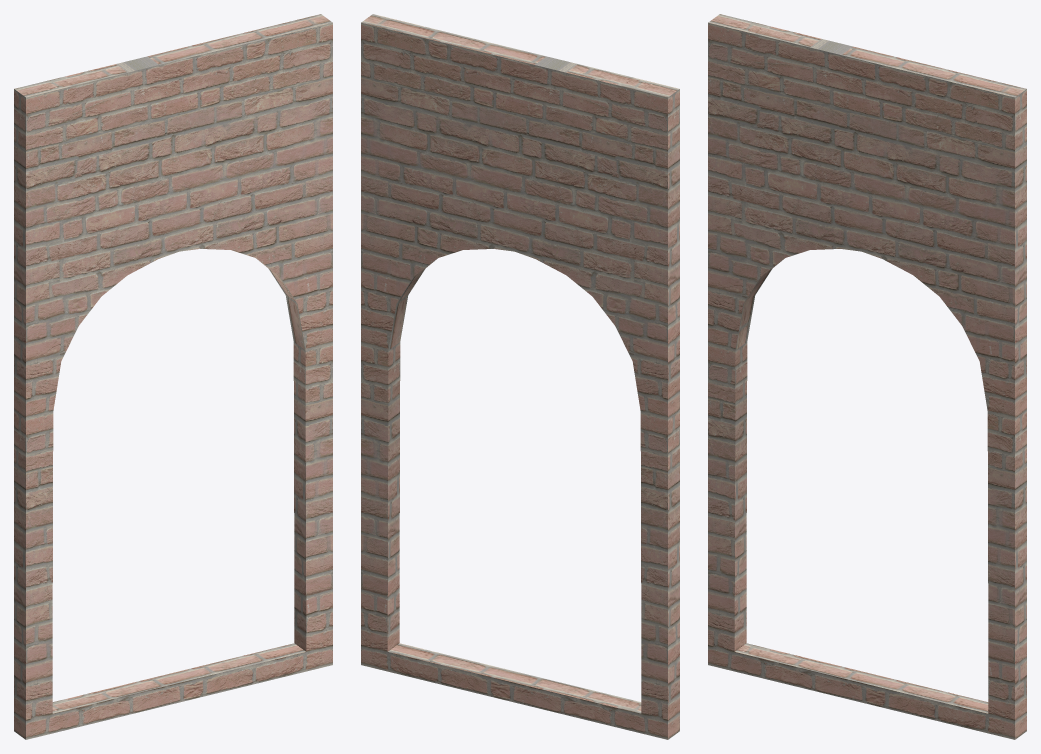
Rendered from ArchesBell.fbx.
The picture shows the model from 3 angles, left to right: view 1: azimuth 30°, elevation 25°; view 2: azimuth 150°, elevation 25°; view 3: azimuth 330°, elevation 25°; orthographic projection.
Visible parts, largest first — view 1: ArchesBell; view 2: ArchesBell; view 3: ArchesBell.
Boxes of the visible parts, x1,y1,x2,y2 form: ArchesBell: (14,14,332,739); ArchesBell: (361,14,679,739); ArchesBell: (708,14,1026,739).
Bounding box in the file's own units: 300 × 600 × 20.
1 material, 1 textured.
